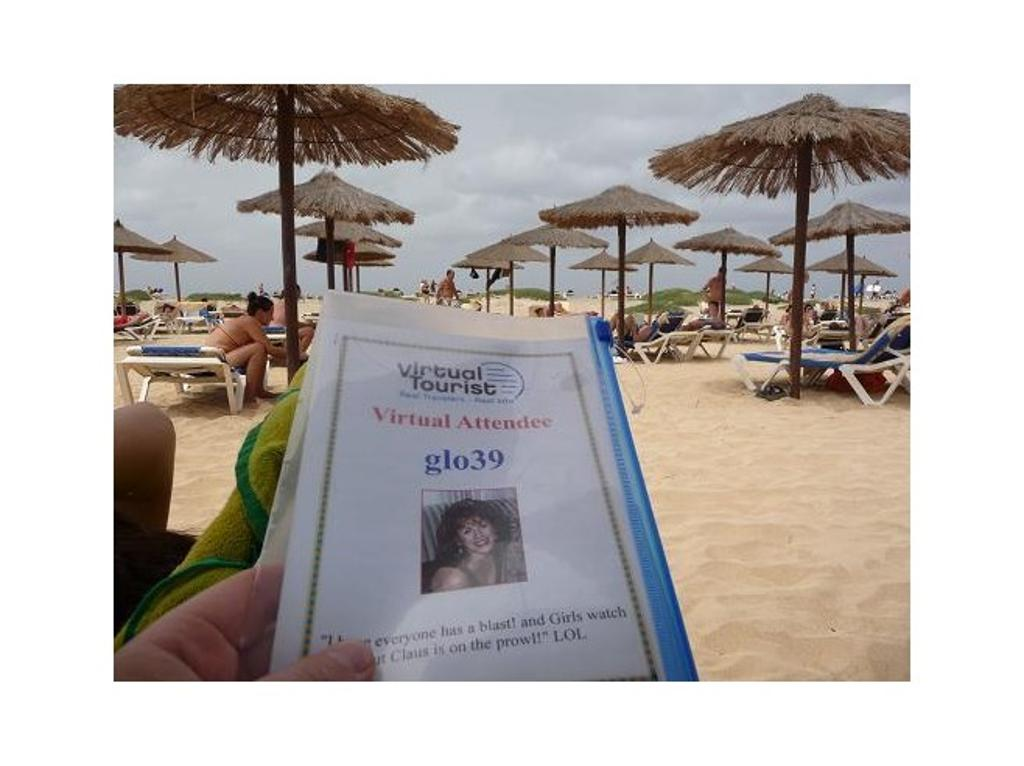face: (450, 512, 502, 558)
